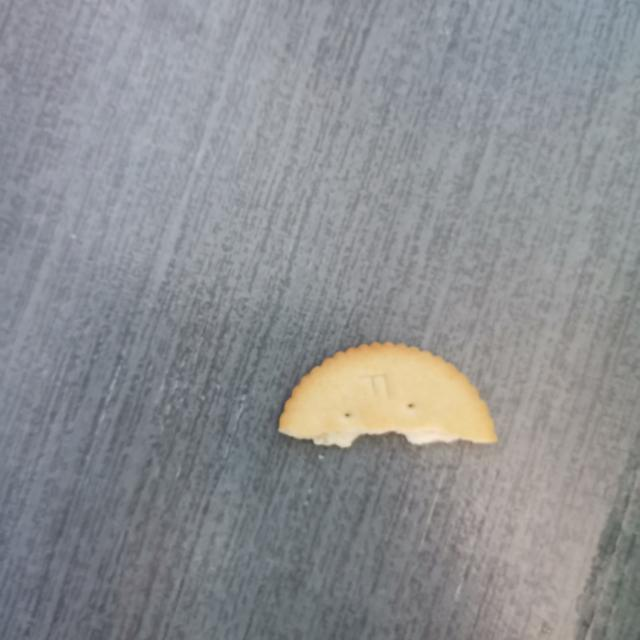Broken: (277, 339, 498, 449)
